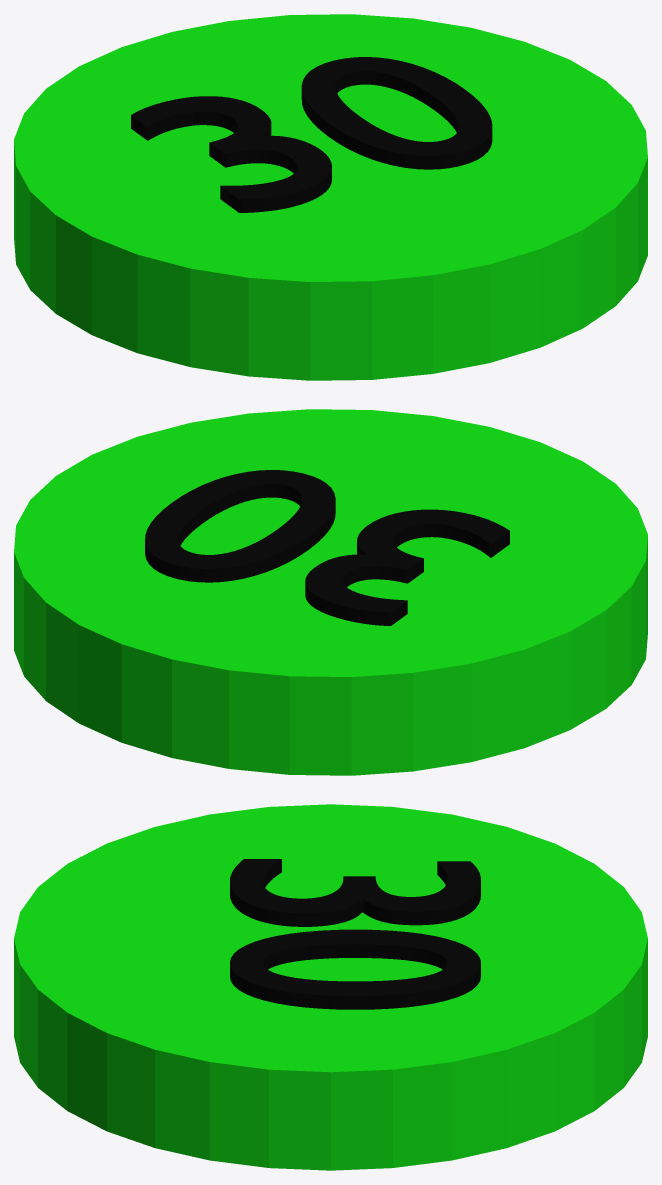
The picture shows the model from 3 angles, top to bottom: view 1: azimuth 30°, elevation 25°; view 2: azimuth 150°, elevation 25°; view 3: azimuth 270°, elevation 25°; orthographic projection.
Parts seen in each view (by area): view 1: 円柱.002, テキスト.002; view 2: 円柱.002, テキスト.002; view 3: 円柱.002, テキスト.002.
Boxes of the visible parts, <box> form: 円柱.002: <box>14,14,647,380</box>; テキスト.002: <box>131,57,492,212</box>; 円柱.002: <box>14,409,647,775</box>; テキスト.002: <box>145,470,509,625</box>; 円柱.002: <box>14,804,647,1170</box>; テキスト.002: <box>230,859,480,1009</box>.
Size of the model in its own units: 909 by 177 by 909.
